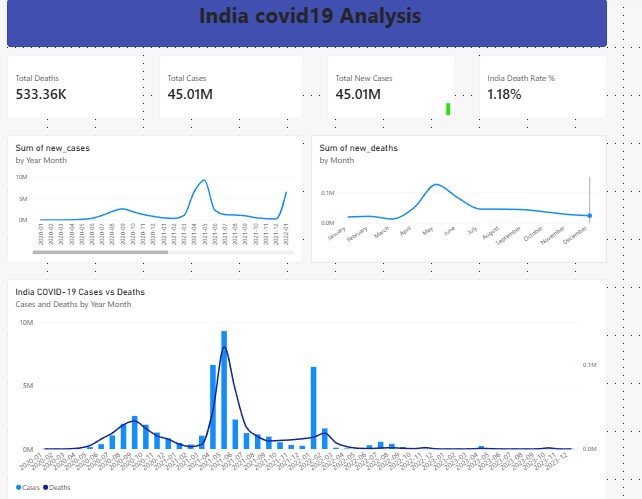

The dashboard page shown, as its layout file describes it:
{"tool":"powerbi","page":{"name":"India Analysis","canvas":[1920,1080],"ordinal":1},"visuals":[{"type":"cardVisual","fields":{"Data":["analytics covid_analytics_cleaned.Total Deaths"]},"box":[16,112,272,128],"z":0},{"type":"cardVisual","fields":{"Data":["analytics covid_analytics_cleaned.Total Cases"]},"box":[320,112,288,128],"z":1000},{"type":"cardVisual","fields":{"Data":["analytics covid_analytics_cleaned.Total New Cases"]},"box":[656,112,256,128],"z":2000},{"type":"cardVisual","fields":{"Data":["analytics covid_analytics_cleaned.India Death Rate %"]},"box":[960,112,256,128],"z":3000},{"type":"textbox","box":[168,0,40,448],"z":4000},{"type":"textbox","box":[16,528,464,64],"z":5000},{"type":"textbox","box":[16,0,1200,96],"z":6000},{"type":"lineChart","fields":{"Category":["DateTable.Year Month"],"Y":["Sum(analytics covid_analytics_cleaned.new_cases)"]},"box":[16,272,592,256],"z":7000},{"type":"lineChart","fields":{"Category":["DateTable.Date.Variation.Date Hierarchy.Month"],"Y":["Sum(analytics covid_analytics_cleaned.new_deaths)"]},"box":[624,272,592,256],"z":8000},{"type":"lineStackedColumnComboChart","title":"India COVID-19 Cases vs Deaths","fields":{"Category":["DateTable.Year Month"],"Y":["Sum(analytics covid_analytics_cleaned.new_cases)"],"Y2":["Sum(analytics covid_analytics_cleaned.new_deaths)"]},"box":[16,560,1200,448],"z":9000}]}

Visuals, with their boxes on the page's 1920x1080 design canvas (x1, y1, x2, y2). These are canvas units, not pixel positions in the 642x499 screenshot, which may show the page scaled, cropped or inside an application window:
cardVisual - analytics covid_analytics_cleaned.Total Deaths: pyautogui.locateOnScreen(16, 112, 288, 240)
cardVisual - analytics covid_analytics_cleaned.Total Cases: pyautogui.locateOnScreen(320, 112, 608, 240)
cardVisual - analytics covid_analytics_cleaned.Total New Cases: pyautogui.locateOnScreen(656, 112, 912, 240)
cardVisual - analytics covid_analytics_cleaned.India Death Rate %: pyautogui.locateOnScreen(960, 112, 1216, 240)
textbox: pyautogui.locateOnScreen(168, 0, 208, 448)
textbox: pyautogui.locateOnScreen(16, 528, 480, 592)
textbox: pyautogui.locateOnScreen(16, 0, 1216, 96)
lineChart - DateTable.Year Month x Sum(analytics covid_analytics_cleaned.new_cases): pyautogui.locateOnScreen(16, 272, 608, 528)
lineChart - DateTable.Date.Variation.Date Hierarchy.Month x Sum(analytics covid_analytics_cleaned.new_deaths): pyautogui.locateOnScreen(624, 272, 1216, 528)
"India COVID-19 Cases vs Deaths" lineStackedColumnComboChart: pyautogui.locateOnScreen(16, 560, 1216, 1008)
